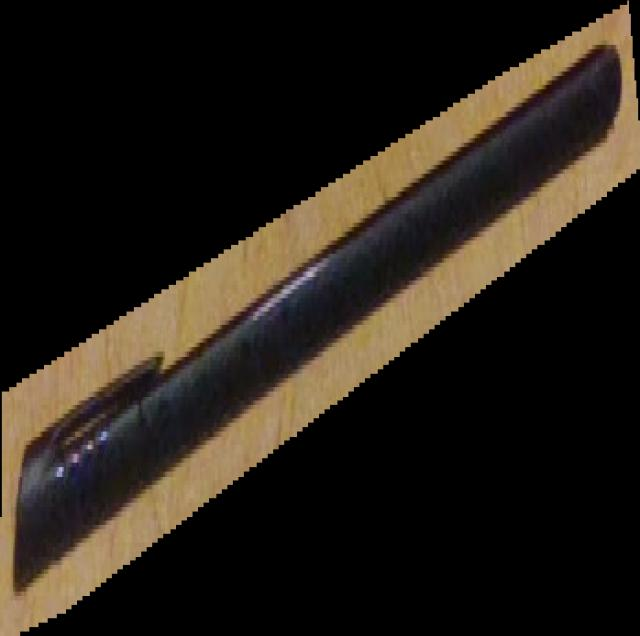black: (1, 0, 640, 636)
